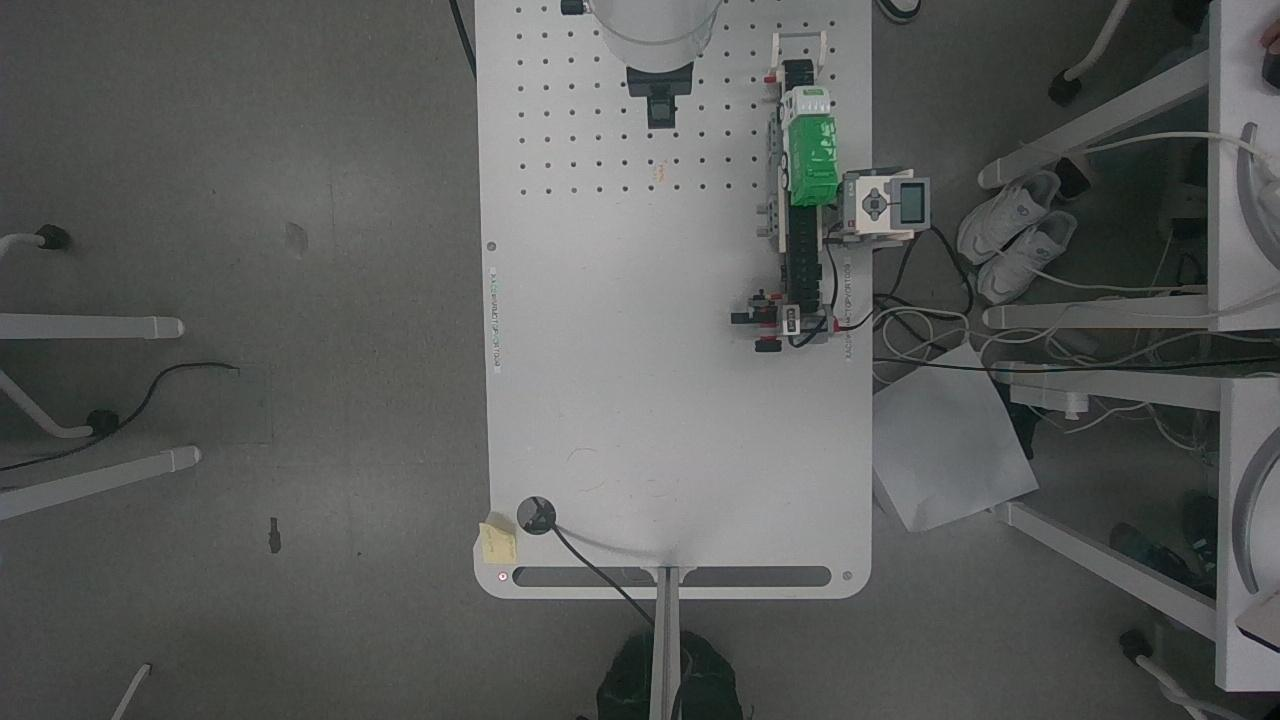truck: (767, 82, 848, 213)
